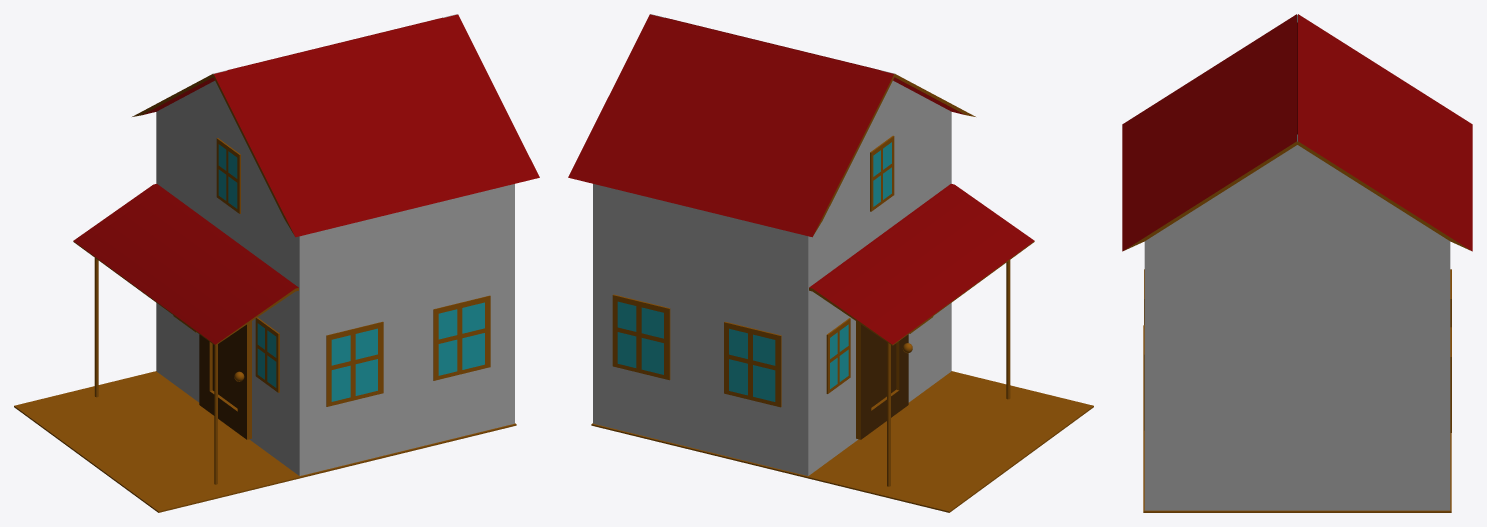
File: Unityev1.fbx
3 renders of one model, left to right at view 1: azimuth 30°, elevation 25°; view 2: azimuth 150°, elevation 25°; view 3: azimuth 270°, elevation 25°, orthographic. The views are drawn at different scales.
Parts seen in each view (by area): view 1: pCube1, pCube4, pCube3, pCube2, pasted__pasted__pCube5, pasted__pasted__pasted__pCube5, pasted__pCube5 (×2), pasted__pCylinder1; view 2: pCube1, pCube4, pCube3, pCube2, pasted__pasted__pasted__pasted__pCube5, pasted__pasted__pasted__pCube5, pasted__pCube5, pCube5, pCylinder1; view 3: pCube1, pCube4.
Part boxes in pixels (x1=…): pCube1: x1=132, y1=14, x2=539, y2=475; pCube4: x1=14, y1=371, x2=516, y2=512; pCube3: x1=73, y1=183, x2=298, y2=345; pCube2: x1=199, y1=321, x2=251, y2=439; pasted__pasted__pCube5: x1=326, y1=321, x2=383, y2=406; pasted__pasted__pasted__pCube5: x1=433, y1=295, x2=490, y2=380; pasted__pCube5 (×2): x1=216, y1=138, x2=279, y2=392; pasted__pCylinder1: x1=94, y1=258, x2=98, y2=397; pCube1: x1=568, y1=14, x2=975, y2=475; pCube4: x1=591, y1=371, x2=1093, y2=512; pCube3: x1=809, y1=183, x2=1034, y2=345; pCube2: x1=856, y1=321, x2=908, y2=439; pasted__pasted__pasted__pasted__pCube5: x1=612, y1=294, x2=670, y2=380; pasted__pasted__pasted__pCube5: x1=724, y1=321, x2=781, y2=407; pasted__pCube5: x1=870, y1=135, x2=894, y2=211; pCube5: x1=826, y1=318, x2=850, y2=393; pCylinder1: x1=1006, y1=260, x2=1010, y2=399; pCube1: x1=1122, y1=14, x2=1472, y2=510; pCube4: x1=1143, y1=325, x2=1451, y2=512.
Bounding box in the file's own units: 3.2 × 2.93 × 2.44.
